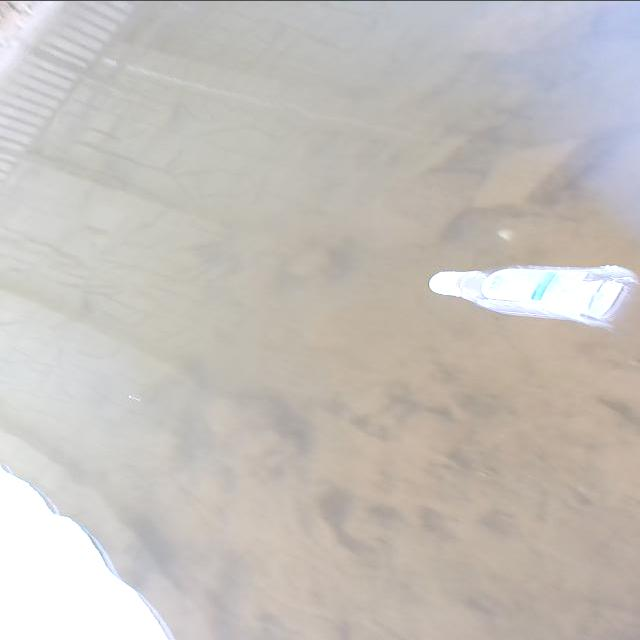bottle: (376, 240, 640, 350)
